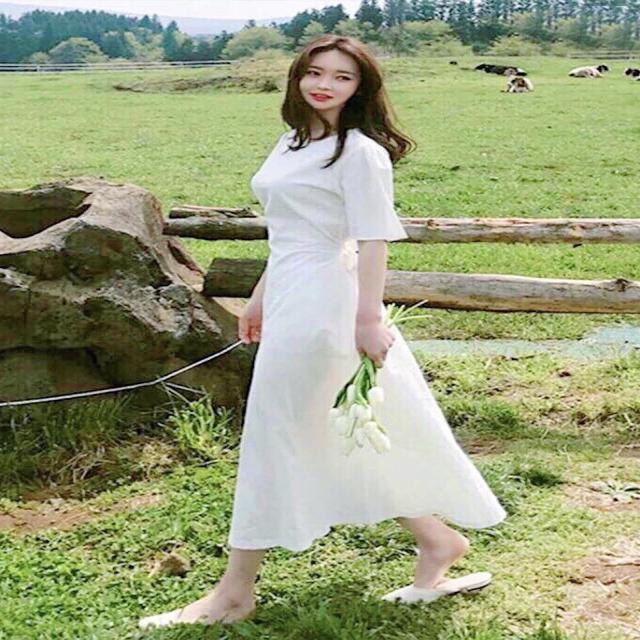clothes: (240, 126, 480, 550)
